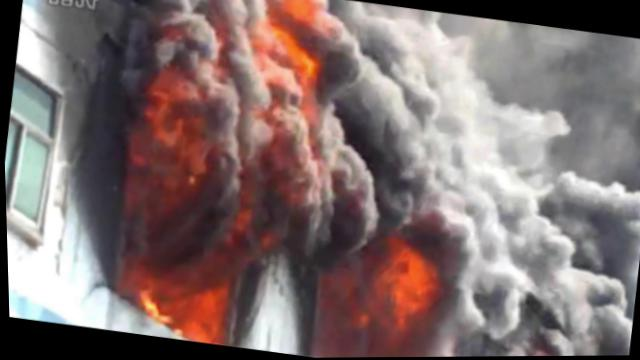fire: (316, 238, 444, 357), (134, 250, 236, 345), (289, 51, 321, 87), (273, 0, 319, 24), (278, 30, 301, 54)
